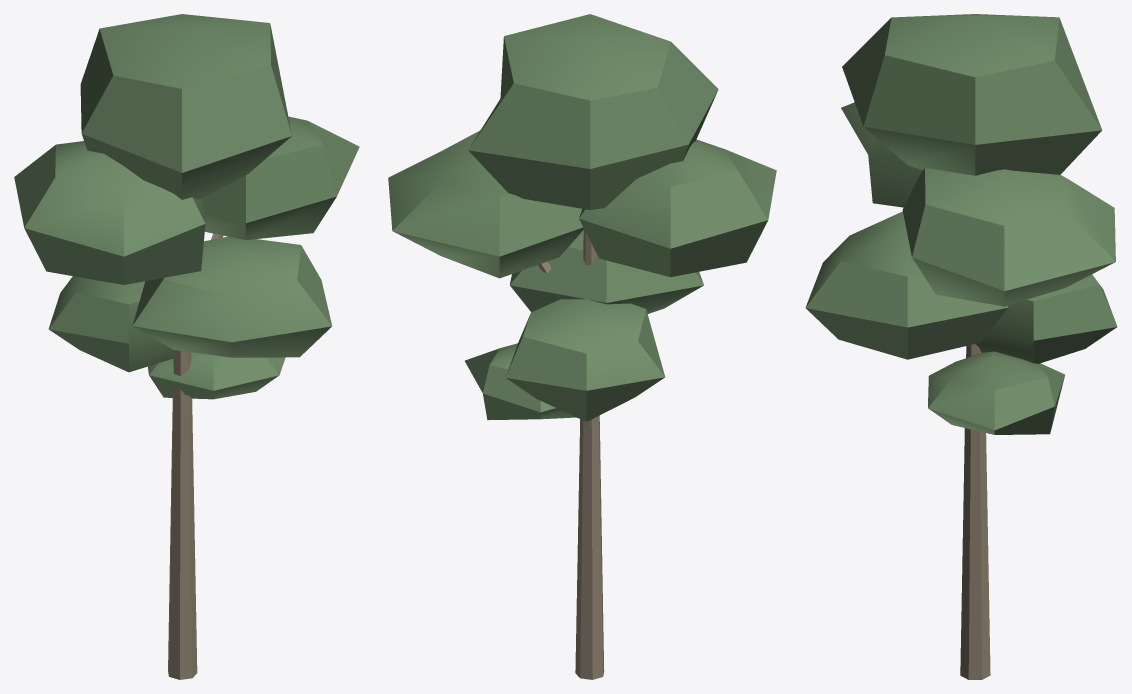
File: pine.glb
The picture shows the model from 3 angles, left to right: view 1: azimuth 30°, elevation 25°; view 2: azimuth 150°, elevation 25°; view 3: azimuth 270°, elevation 25°; orthographic projection. The views are drawn at different scales.
Parts seen in each view (by area): view 1: Crown, Trunk; view 2: Crown, Trunk; view 3: Crown, Trunk.
Part boxes in pixels (x1,y1,x2,y2): Crown: (14,14,359,399); Trunk: (168,233,223,679); Crown: (388,14,776,421); Trunk: (538,229,604,679); Crown: (805,14,1117,434); Trunk: (960,344,990,679).
Bounding box in the file's own units: 8.78 × 14.99 × 6.45.
